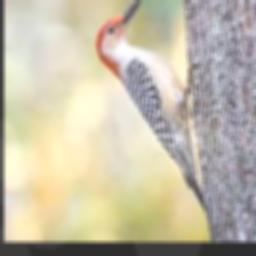Woodpecker: (95, 0, 207, 213)
